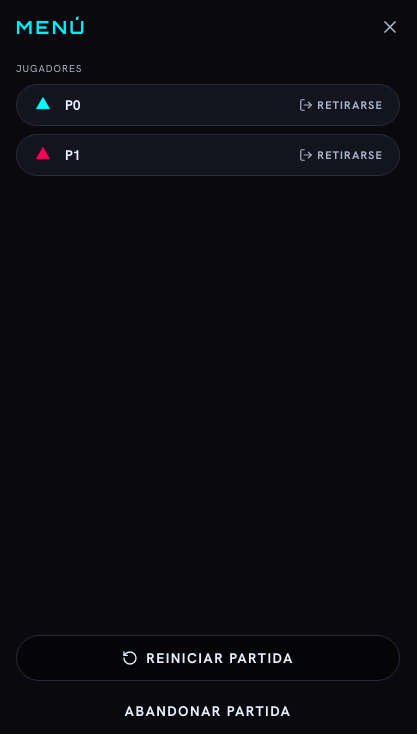
Test: ArenaMenu leave confirmation › warns that the game will be cancelled when only two players remain
Click the button with test id "leave-0".
click(341, 105)  # box [299, 97, 383, 113]
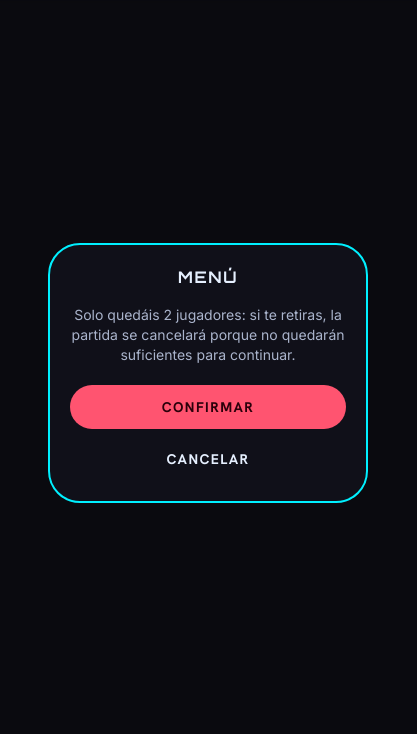
Now the text "Solo quedáis 2 jugadores: si te retiras, la partida se cancelará porque no quedarán suficientes para continuar." is shown, box [72, 306, 345, 363]
